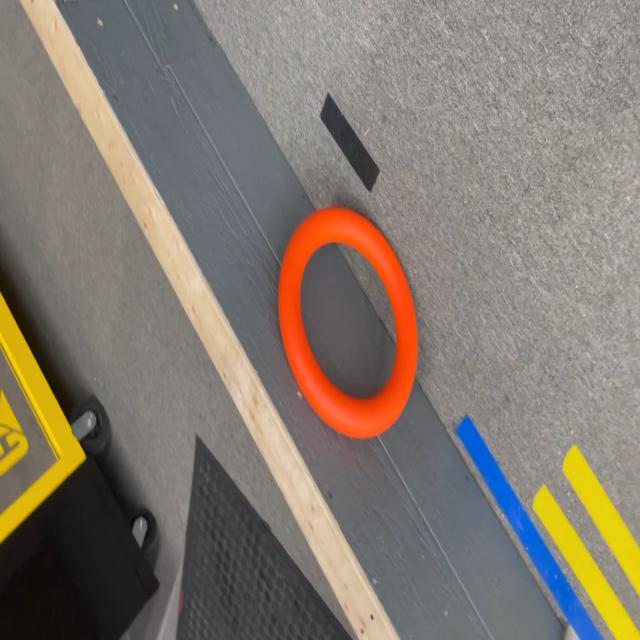note: (278, 207, 418, 437)
